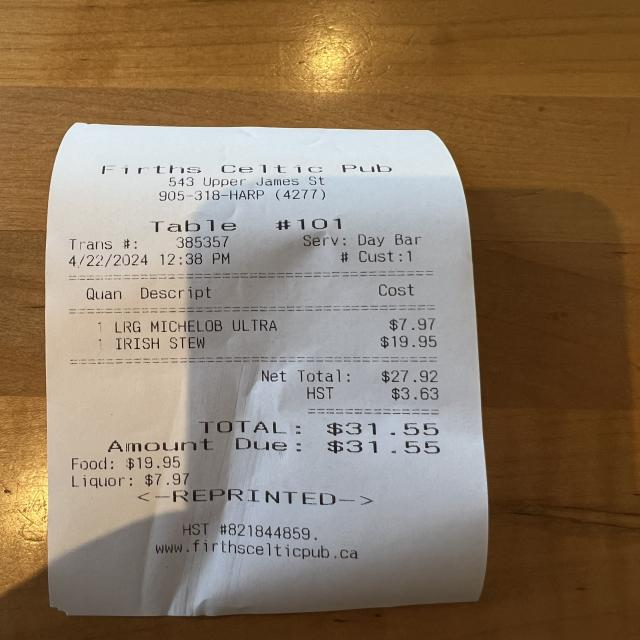item: (107, 334, 444, 356), (106, 315, 443, 335)
store_name: (93, 159, 404, 180)
total_amount: (192, 414, 446, 444)
transaction_date: (60, 248, 157, 274)
